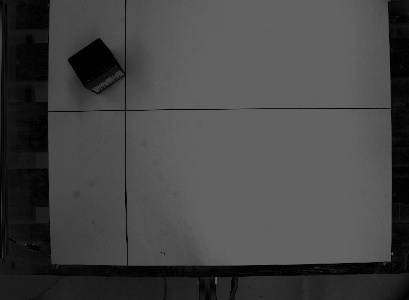b7: (64, 34, 125, 96)
